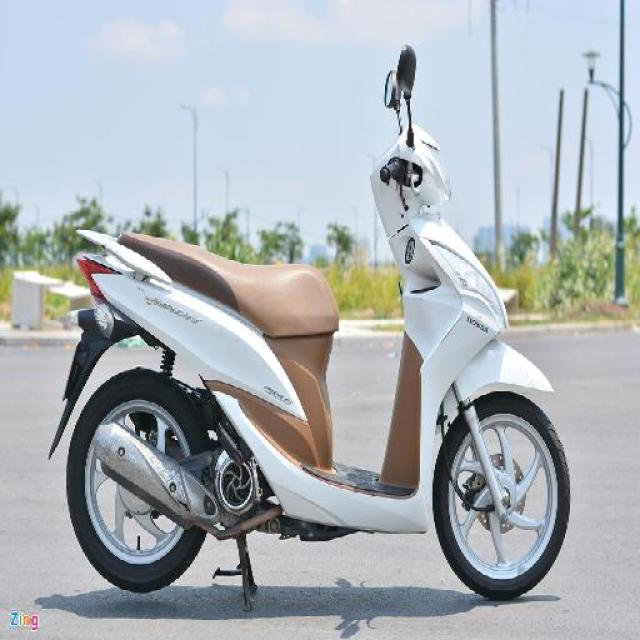All: (46, 119, 576, 603)
Head: (369, 123, 454, 210)
Tail: (71, 214, 144, 298)
